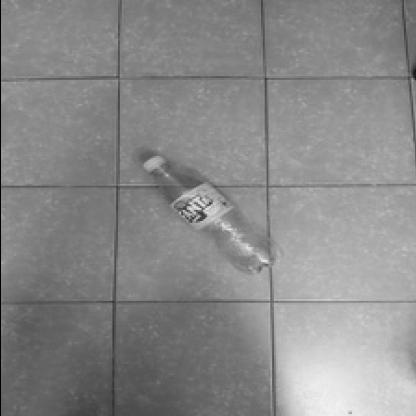plastic_bottles: (139, 147, 277, 278)
